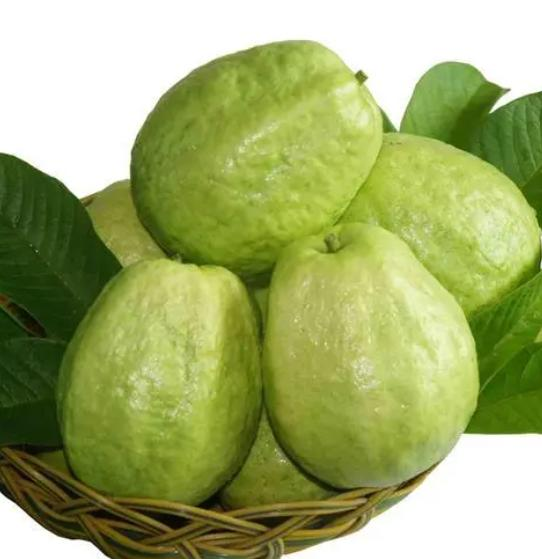guava_A: (130, 39, 384, 279), (263, 222, 480, 489), (55, 257, 264, 513)
